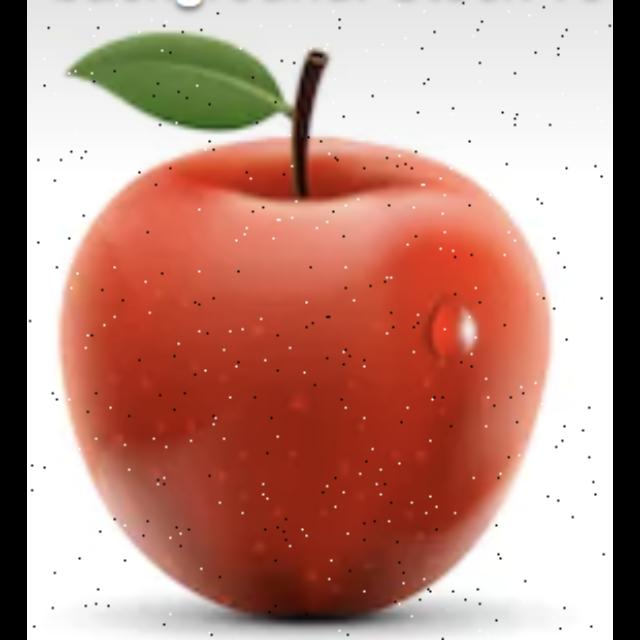Apel Segar: (50, 50, 560, 621)
